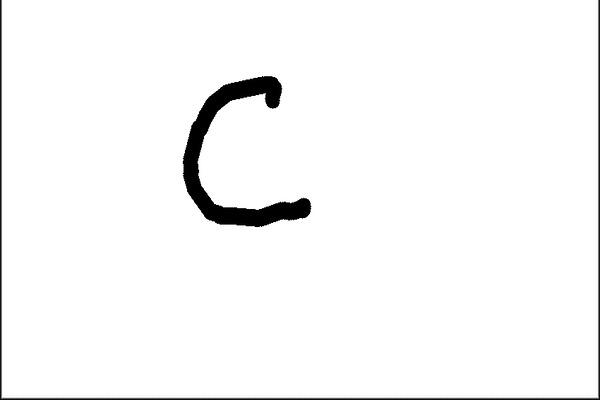C: (178, 70, 316, 230)
